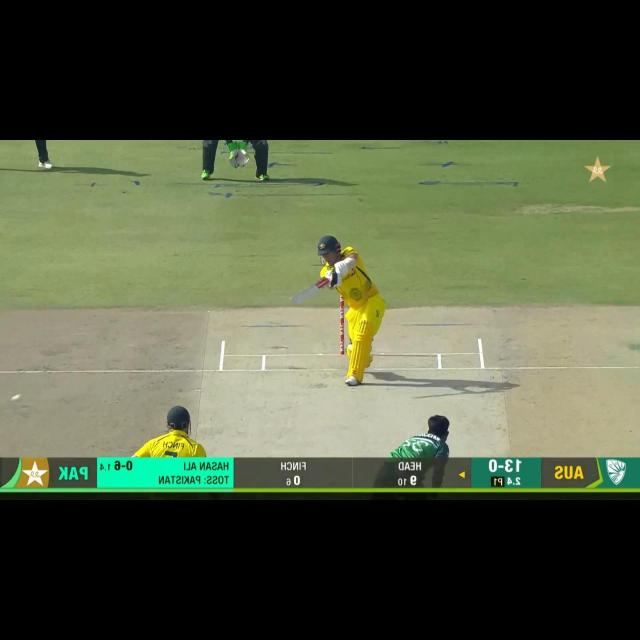bat: (287, 280, 331, 304)
toe: (287, 296, 298, 304)
